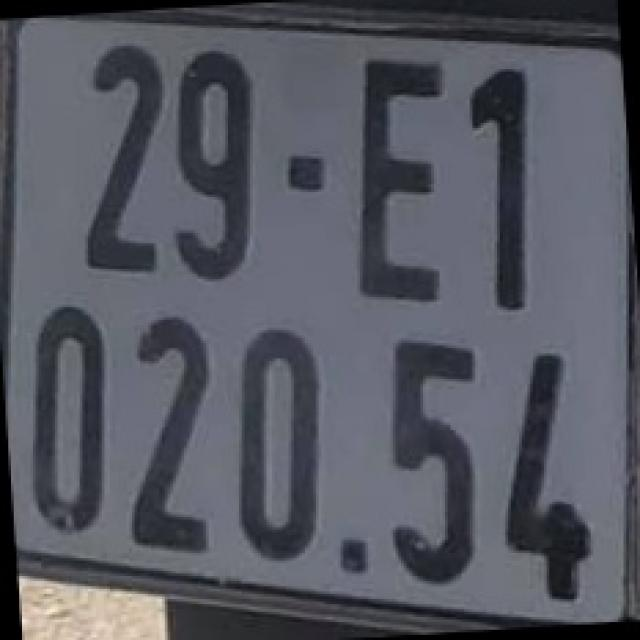0: (230, 323, 330, 563), (25, 302, 115, 535)
1: (461, 56, 544, 318)
2: (126, 310, 220, 558), (80, 41, 164, 276)
4: (500, 348, 601, 607)
5: (382, 336, 483, 578)
9: (170, 48, 261, 282)
E: (352, 51, 451, 310)
